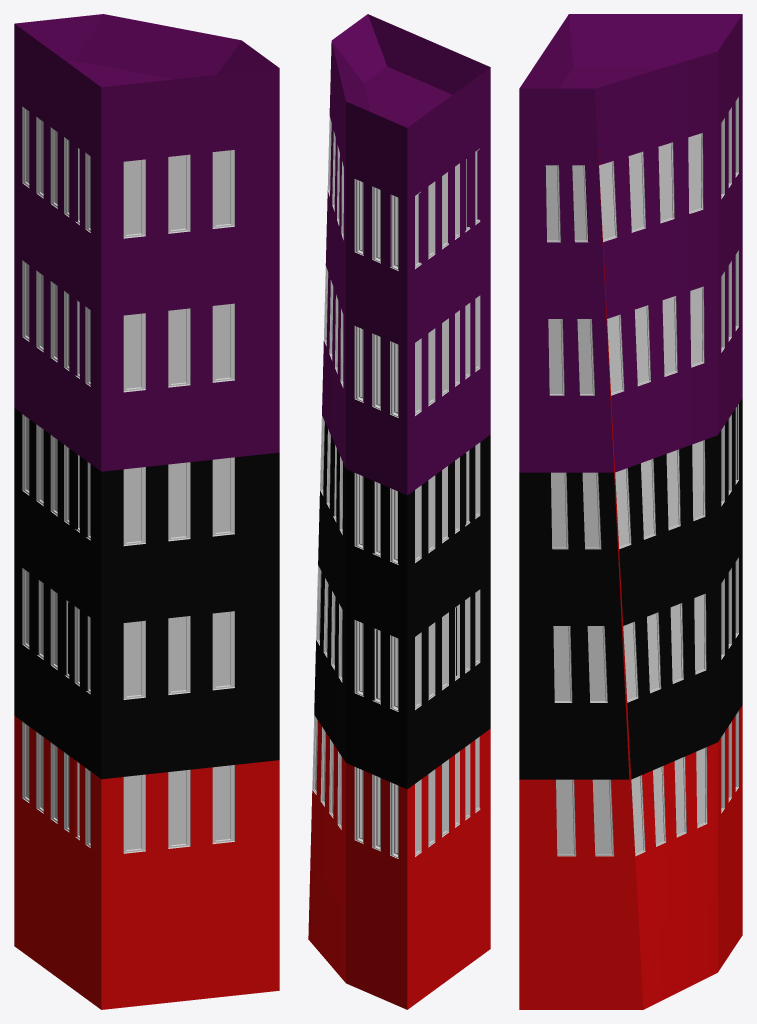
Rendered from happiness_tower.fbx.
3 views of the same model, side by side, from view 1: azimuth 30°, elevation 25°; view 2: azimuth 150°, elevation 25°; view 3: azimuth 270°, elevation 25° (orthographic). The views are drawn at different scales.
Parts seen in each view (by area): view 1: Vert.001; view 2: Vert.001; view 3: Vert.001.
Boxes of the visible parts, <box> form: Vert.001: <box>14,14,279,1009</box>; Vert.001: <box>308,14,490,1009</box>; Vert.001: <box>519,14,742,1009</box>.
Bounding box in the file's own units: 142 × 819 × 180.
